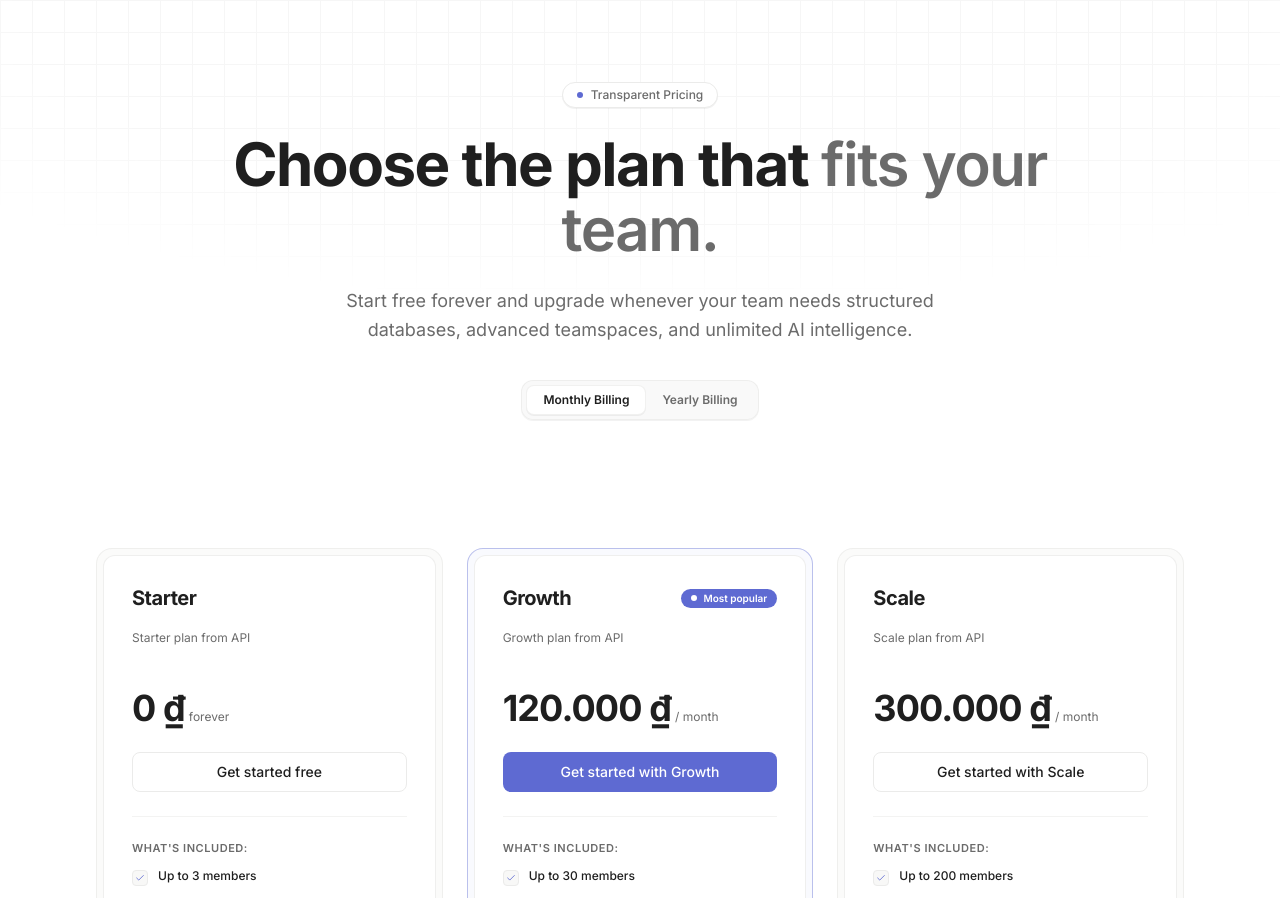
it: PricingPageContent › switches to yearly prices
Expected: the heading "Growth" is shown, [503,584,571,612]
Click the button "Yearly Billing" at {"x": 700, "y": 400}, box [646,386,754,414]
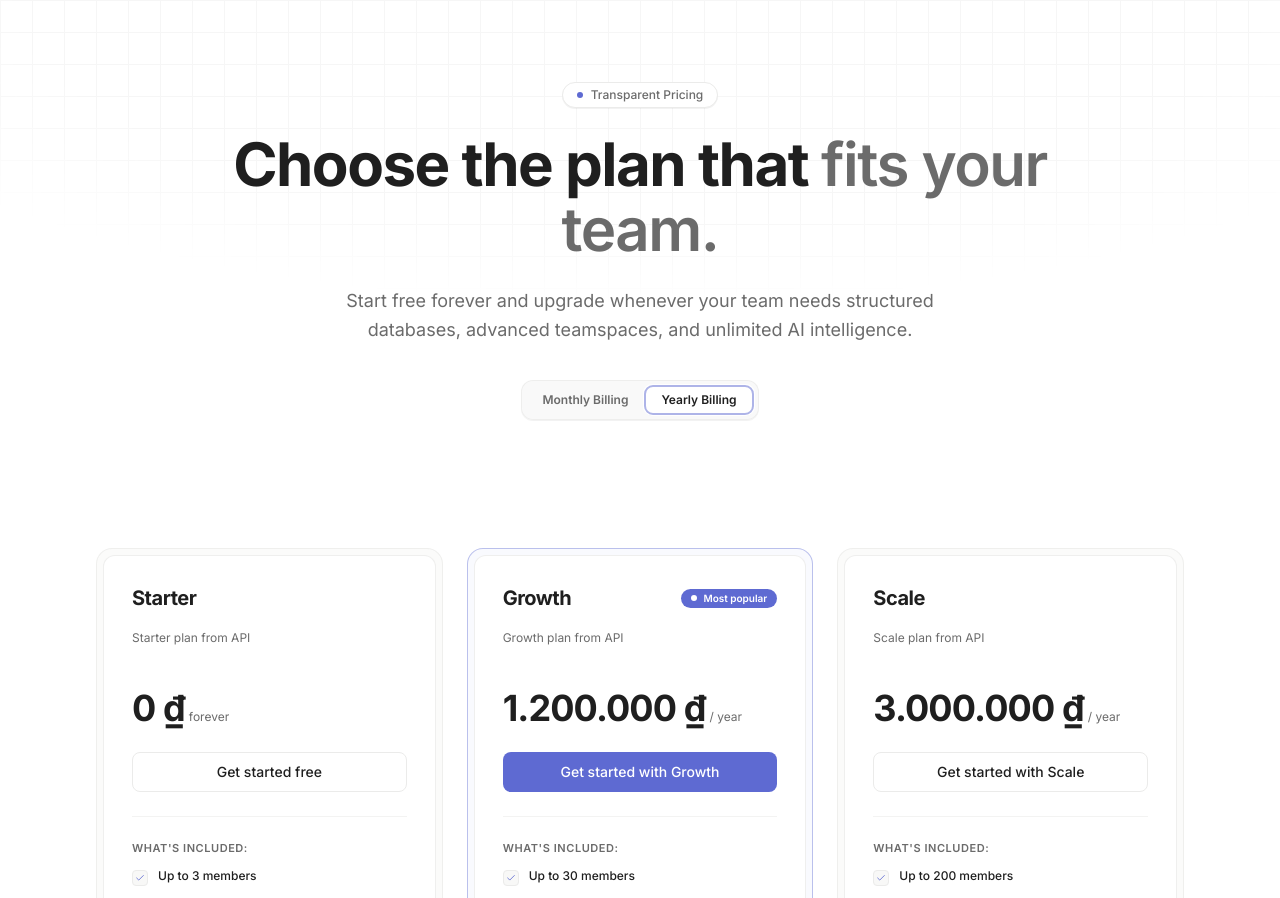
Expected: the text "/ year" is shown 2 times, [710,709,742,725]; [1088,709,1120,725]
Expected: the text "1.200.000 ₫" is shown, [503,688,706,728]
